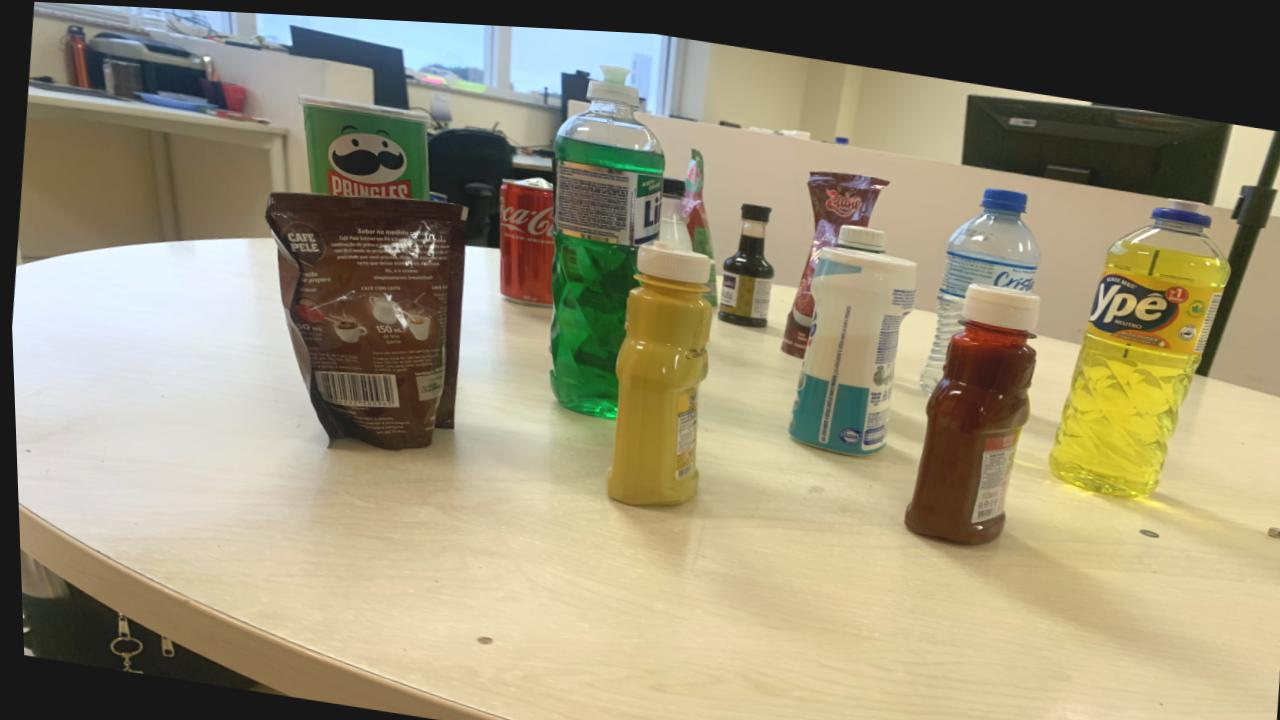Cleaner-Cleanup_Items: (786, 237, 915, 446)
Coffee-Pantry_Items: (265, 189, 463, 445)
Coke-Drinks: (497, 171, 554, 301), (497, 172, 554, 301)
Detergent-Cleanup_Items: (1046, 186, 1228, 486), (548, 58, 664, 411)
English_Sauce-Pantry_Items: (717, 195, 773, 319)
Guarana-Drinks: (836, 215, 885, 243)
Ketchup-Pantry_Items: (901, 272, 1039, 534)
Mustard-Pantry_Items: (603, 232, 710, 498)
Pringles-Snacks: (299, 91, 429, 195)
Soda-Drinks: (657, 170, 692, 243)
Tomato_Sauce-Pantry_Items: (778, 162, 886, 348), (682, 141, 712, 252), (701, 258, 716, 298)
Water_Bottle-Drinks: (916, 176, 1040, 381)
